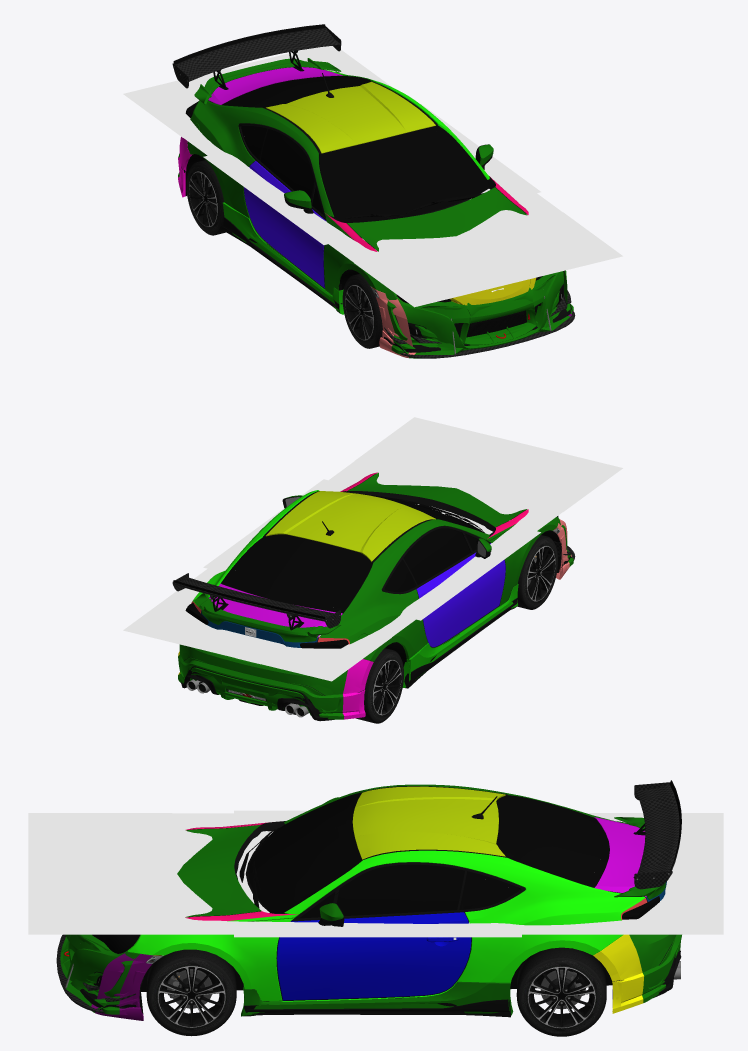
Rendered from scion_fr_s.fbx.
3 renders of one model, top to bottom at view 1: azimuth 30°, elevation 25°; view 2: azimuth 150°, elevation 25°; view 3: azimuth 270°, elevation 25°, orthographic. The views are drawn at different scales.
Parts seen in each view (by area): view 1: neon (×4), sci_frs_13_body_body_, shadow, sci_frs_13_glassF_window_, sci_frs_13_bumperFi_body_, sci_frs_13_body_black_glass_, sci_frs_13_bumperFh_body_, sci_frs_13_wingrace_carbon_fiber_, sci_frs_13_hooda_body_, sci_frs_13_wheel_tire_ (×2), sci_frs_13_wheel_rim_ (×2), sci_frs_13_glassRM_window_ (+11 smaller); view 2: neon (×4), sci_frs_13_body_body_, shadow, sci_frs_13_glassR_window_, sci_frs_13_bumperRe_body_, sci_frs_13_body_black_glass_, sci_frs_13_wheel_tire_ (×2), sci_frs_13_glassRM_window_, sci_frs_13_wheel_rim_ (×2), sci_frs_13_body_plastic2_, sci_frs_13_hooda_body_, sci_frs_13_wingrace_carbon_fiber_ (+10 smaller); view 3: sci_frs_13_body_body_, shadow, neon (×4), sci_frs_13_wheel_tire_ (×2), sci_frs_13_glassF_window_, sci_frs_13_glassR_window_, sci_frs_13_glassLM_window_, sci_frs_13_wheel_rim_ (×2), sci_frs_13_body_black_glass_, sci_frs_13_wingrace_carbon_fiber_, sci_frs_13_body_plastic2_, sci_frs_13_hooda_body_ (+17 smaller).
Part boxes in pixels (x1=…): neon (×4): x1=123, y1=46, x2=622, y2=307; sci_frs_13_body_body_: x1=187, y1=69, x2=528, y2=296; shadow: x1=167, y1=66, x2=581, y2=287; sci_frs_13_glassF_window_: x1=323, y1=131, x2=482, y2=216; sci_frs_13_bumperFi_body_: x1=387, y1=270, x2=572, y2=354; sci_frs_13_body_black_glass_: x1=222, y1=75, x2=488, y2=223; sci_frs_13_bumperFh_body_: x1=376, y1=270, x2=571, y2=358; sci_frs_13_wingrace_carbon_fiber_: x1=172, y1=26, x2=341, y2=88; sci_frs_13_hooda_body_: x1=347, y1=187, x2=526, y2=251; sci_frs_13_wheel_tire_ (×2): x1=186, y1=160, x2=382, y2=348; sci_frs_13_wheel_rim_ (×2): x1=189, y1=171, x2=373, y2=339; sci_frs_13_glassRM_window_: x1=260, y1=129, x2=314, y2=198; neon (×4): x1=123, y1=417, x2=622, y2=681; sci_frs_13_body_body_: x1=191, y1=472, x2=558, y2=661; shadow: x1=167, y1=437, x2=580, y2=660; sci_frs_13_glassR_window_: x1=229, y1=538, x2=364, y2=607; sci_frs_13_bumperRe_body_: x1=178, y1=651, x2=366, y2=719; sci_frs_13_body_black_glass_: x1=221, y1=492, x2=480, y2=613; sci_frs_13_wheel_tire_ (×2): x1=356, y1=535, x2=557, y2=723; sci_frs_13_glassRM_window_: x1=403, y1=528, x2=470, y2=584; sci_frs_13_wheel_rim_ (×2): x1=373, y1=546, x2=555, y2=715; sci_frs_13_body_plastic2_: x1=252, y1=491, x2=495, y2=594; sci_frs_13_hooda_body_: x1=348, y1=473, x2=526, y2=527; sci_frs_13_wingrace_carbon_fiber_: x1=172, y1=573, x2=340, y2=628; sci_frs_13_body_body_: x1=127, y1=784, x2=647, y2=1001; shadow: x1=54, y1=813, x2=693, y2=934; neon (×4): x1=28, y1=810, x2=723, y2=937; sci_frs_13_wheel_tire_ (×2): x1=146, y1=947, x2=606, y2=1036; sci_frs_13_glassF_window_: x1=257, y1=796, x2=353, y2=908; sci_frs_13_glassR_window_: x1=506, y1=799, x2=602, y2=881; sci_frs_13_glassLM_window_: x1=336, y1=864, x2=464, y2=915; sci_frs_13_wheel_rim_ (×2): x1=158, y1=966, x2=595, y2=1027; sci_frs_13_body_black_glass_: x1=248, y1=792, x2=609, y2=912; sci_frs_13_wingrace_carbon_fiber_: x1=634, y1=782, x2=680, y2=889; sci_frs_13_body_plastic2_: x1=234, y1=786, x2=525, y2=988; sci_frs_13_hooda_body_: x1=185, y1=825, x2=261, y2=917.
Size of the model in its own units: 4 by 1.44 by 5.
